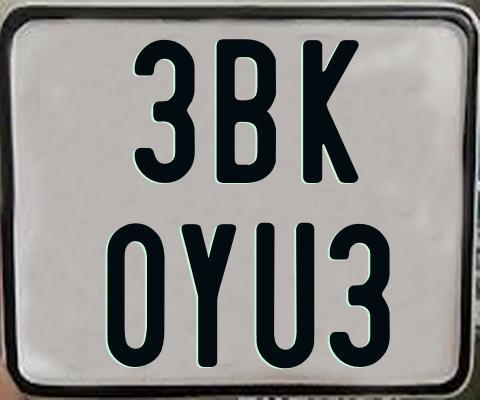0: (104, 222, 167, 370)
3: (328, 224, 394, 367), (133, 38, 194, 181)
B: (216, 38, 277, 186)
K: (300, 39, 356, 188)
U: (254, 223, 313, 371)
Y: (181, 224, 236, 370)
